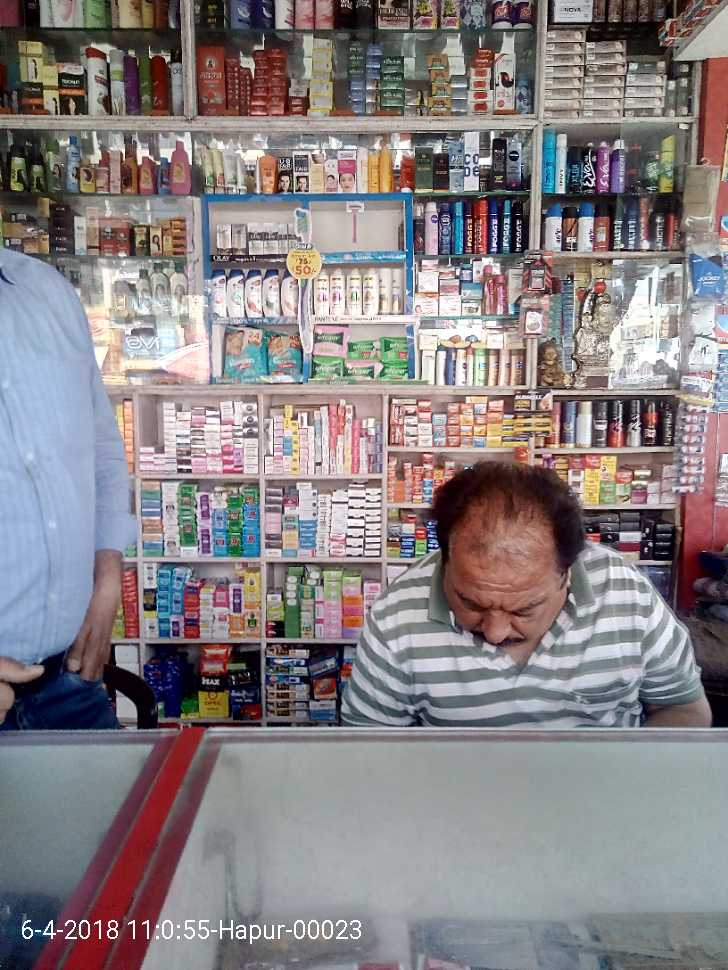venus: (346, 201, 365, 244)
